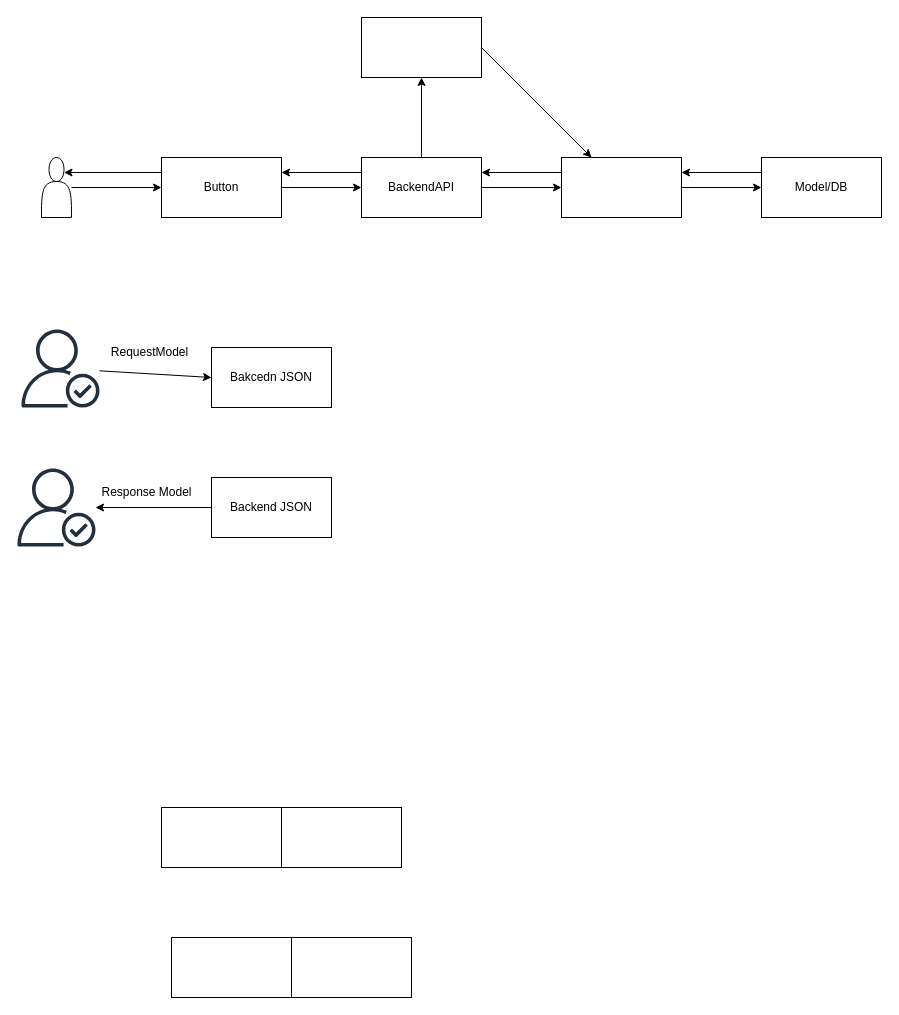
The diagram is 899 pixels wide and 1015 high, and some of its shapes have lost their labels. The shapes that lost their labels are listed below. From the top down, each one's box as (x1, y1, x2, y2) in pixels, then its label:
(360, 16, 482, 78): AI Models
(560, 156, 682, 218): Business Logic
